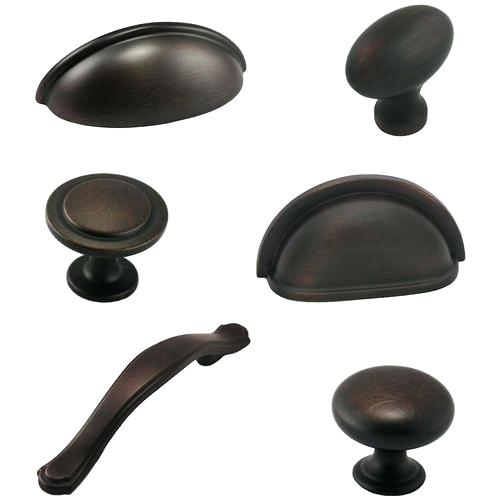handle: (30, 299, 250, 500), (249, 165, 466, 303), (30, 21, 242, 126), (326, 349, 456, 500), (40, 173, 170, 312), (335, 10, 458, 133)
